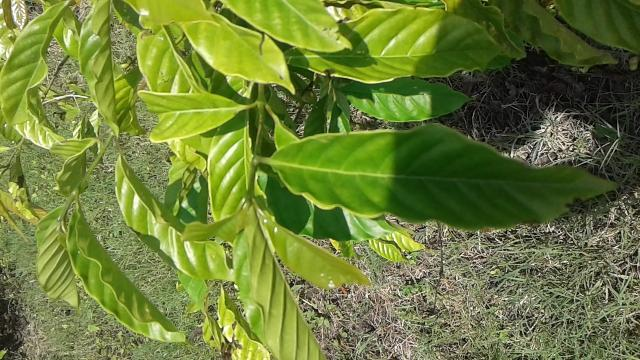healthy: (266, 120, 630, 234)
